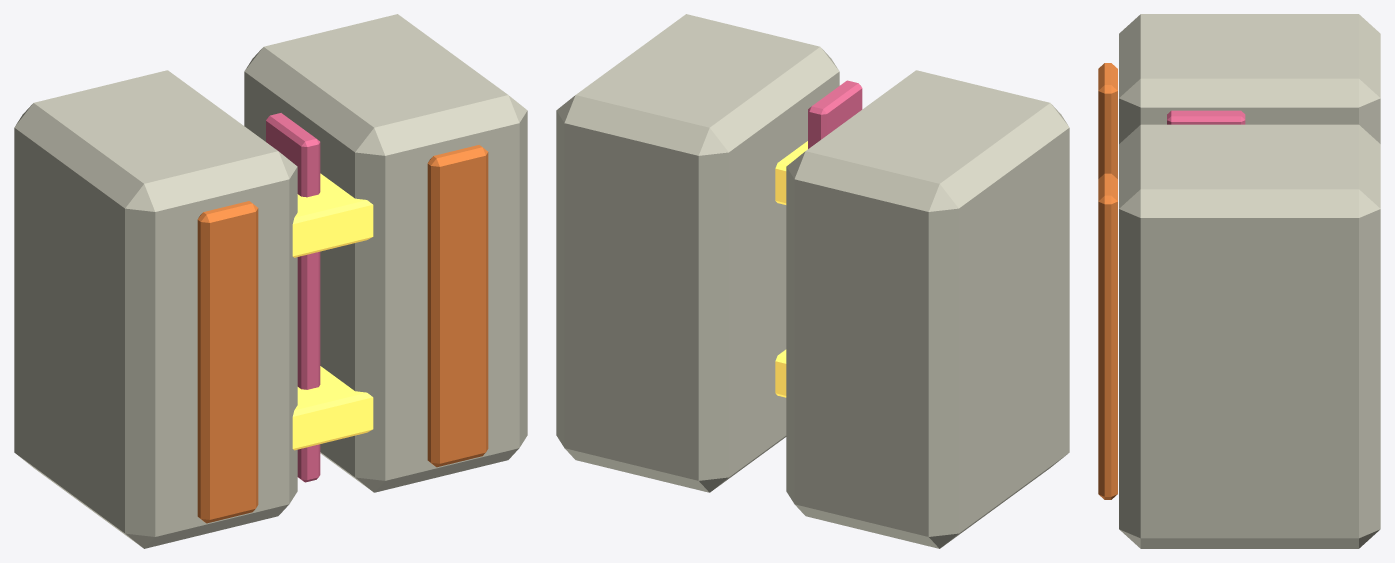
File: separator.glb
3 renders of one model, left to right at view 1: azimuth 30°, elevation 25°; view 2: azimuth 150°, elevation 25°; view 3: azimuth 270°, elevation 25°, orthographic.
Parts seen in each view (by area): view 1: Split coupling, Split coupling.001, Separation stripe, Separation stripe.001, Seam, Release latch.001, Release latch; view 2: Split coupling, Split coupling.001, Seam, Release latch.001; view 3: Split coupling.001, Split coupling, Separation stripe.001, Separation stripe, Seam.
Boxes of the visible parts, x1,y1,x2,y2 form: Split coupling: (14,70,297,548); Split coupling.001: (244,14,527,492); Separation stripe: (197,201,258,523); Separation stripe.001: (427,145,488,467); Seam: (266,113,320,482); Release latch.001: (292,173,373,257); Release latch: (292,366,373,450); Split coupling: (786,70,1069,548); Split coupling.001: (556,14,839,492); Seam: (808,80,862,148); Release latch.001: (775,141,807,204); Split coupling.001: (1119,124,1380,548); Split coupling: (1119,14,1380,143); Separation stripe.001: (1098,173,1117,499); Separation stripe: (1098,63,1117,178); Seam: (1167,110,1245,124).
Bounding box in the file's own units: 1.05 × 0.91 × 0.6475.
